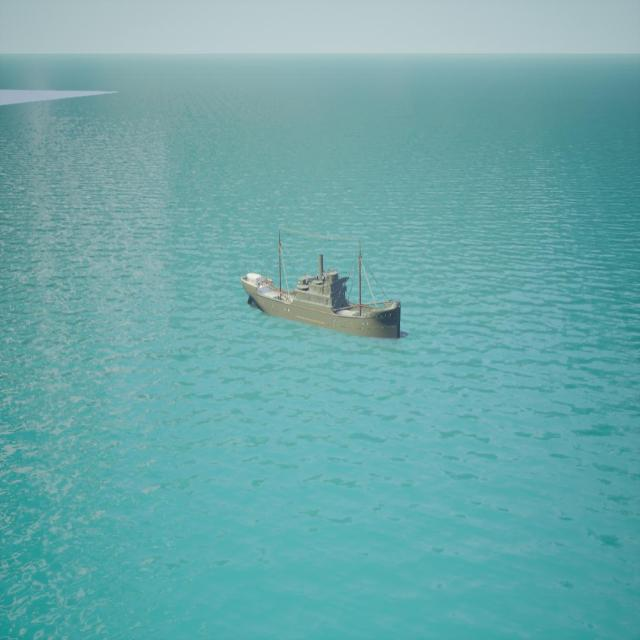fishing ship: (243, 238, 403, 343)
